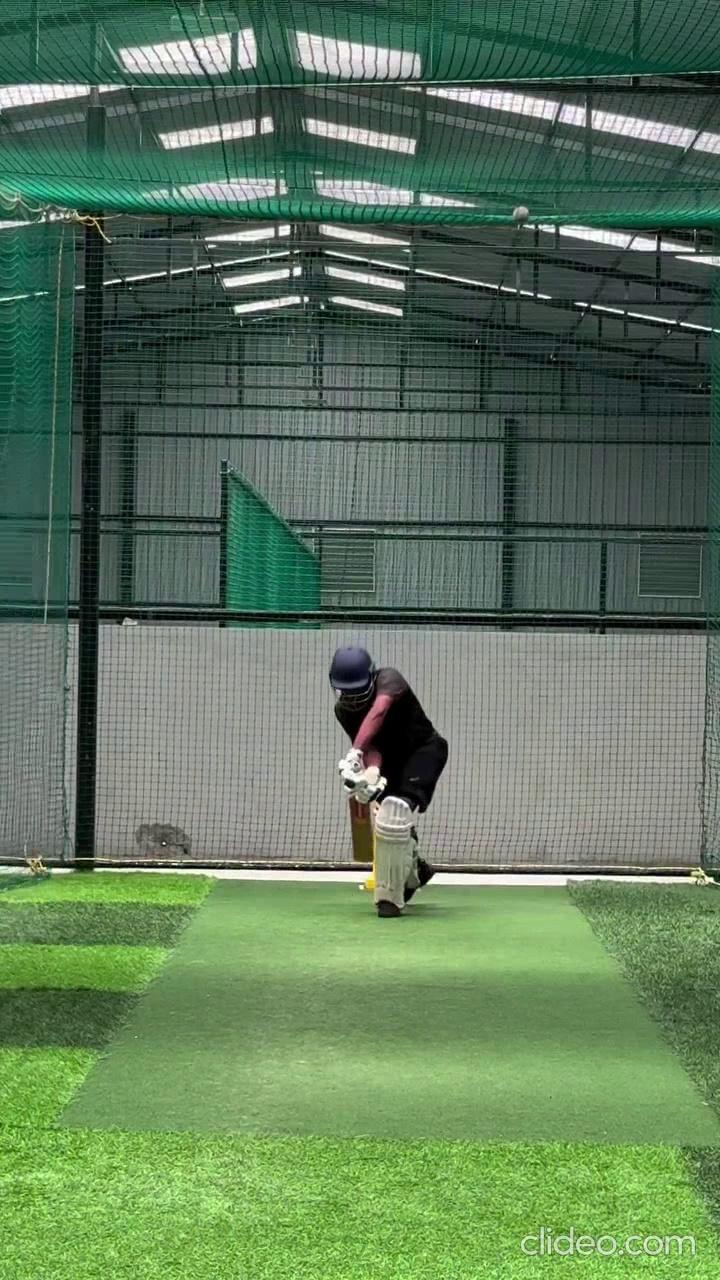bat: (347, 796, 375, 866)
